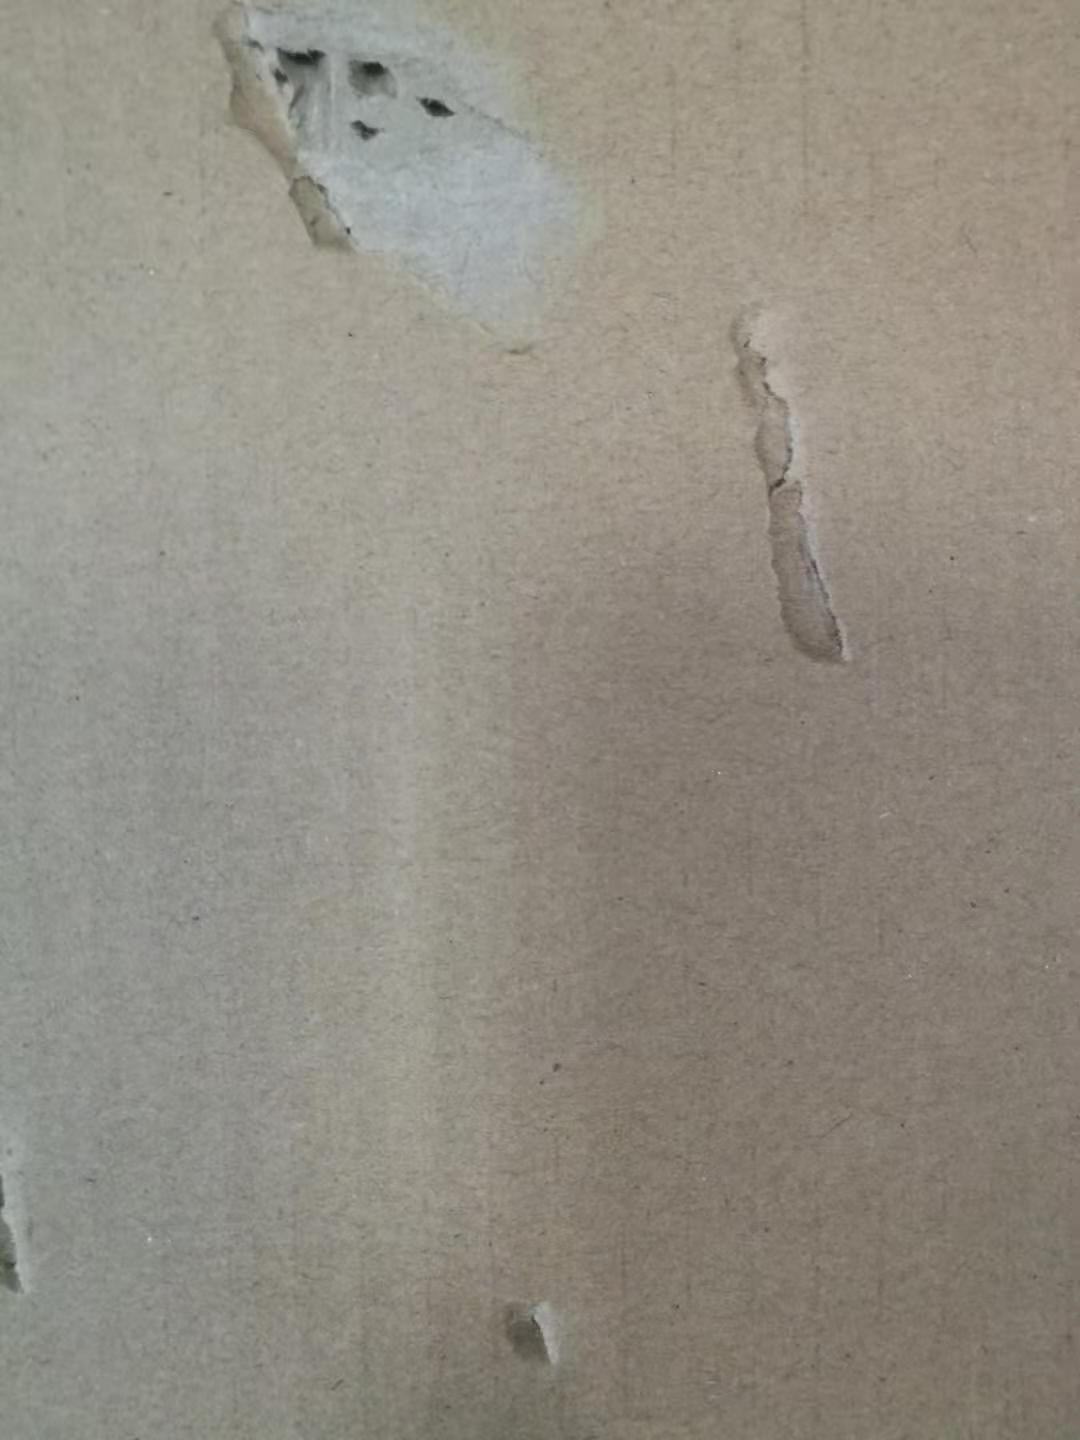defect: (185, 1, 628, 379), (689, 283, 879, 698), (482, 1274, 580, 1394), (1, 1144, 57, 1321)
